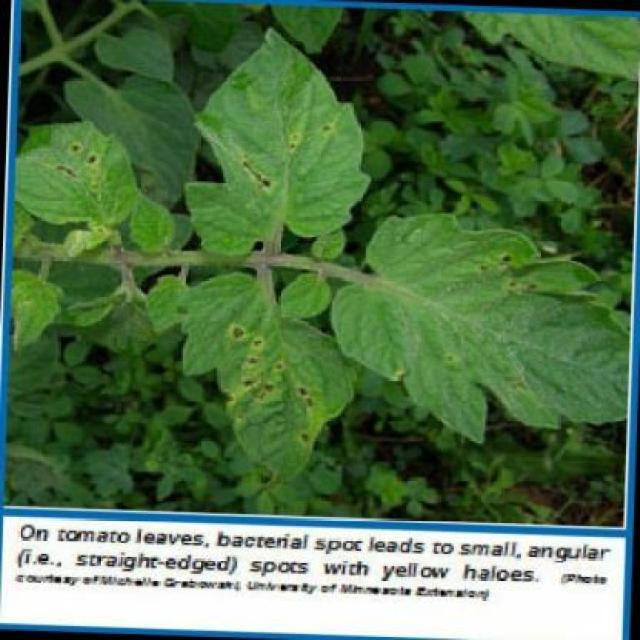Tomato leaf bacterial spot: (330, 198, 632, 444), (188, 28, 394, 266), (162, 265, 356, 480), (3, 116, 182, 242)
